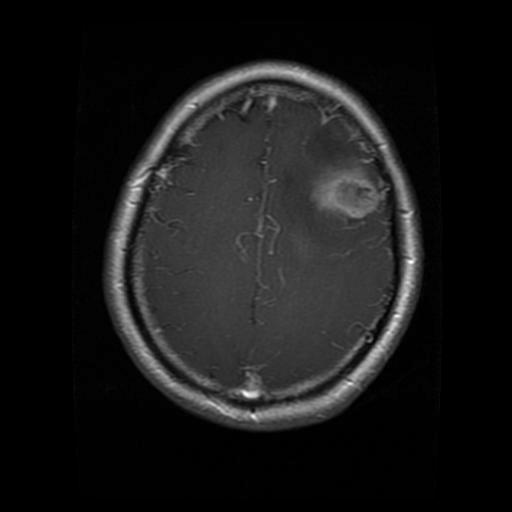Tumour-Glioma: (309, 160, 402, 231)
